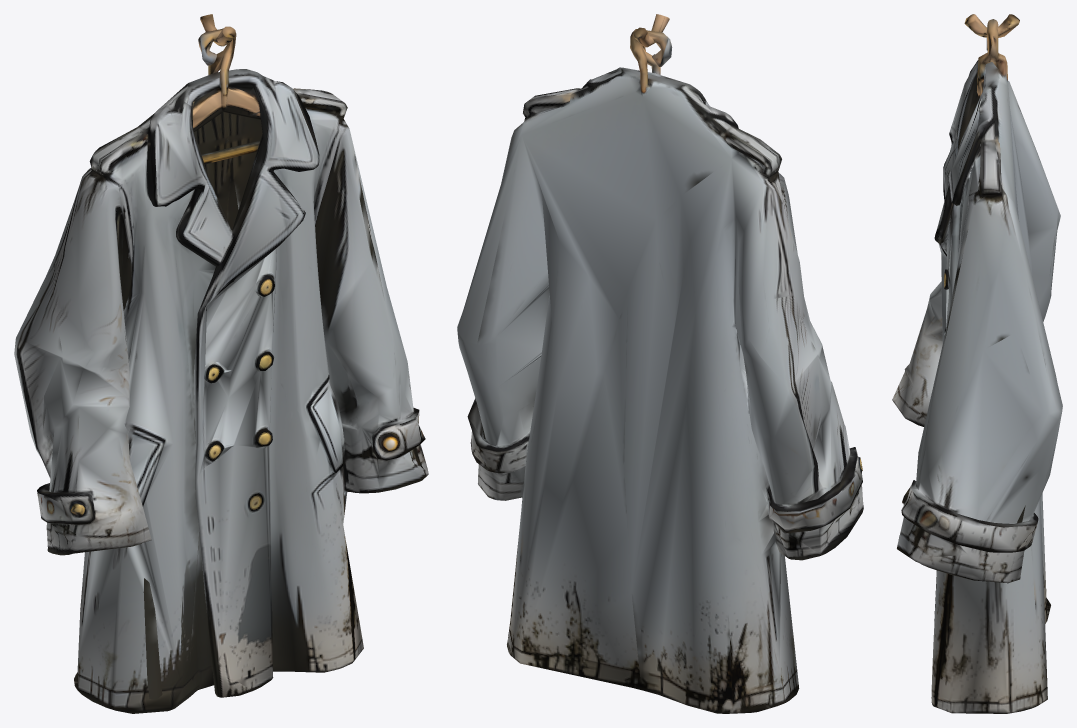
The model's file is lhi_oilskin_coat.glb.
3 views of the same model, side by side, from view 1: azimuth 30°, elevation 25°; view 2: azimuth 150°, elevation 25°; view 3: azimuth 270°, elevation 25° (orthographic).
Visible parts, largest first — view 1: material; view 2: material; view 3: material.
Part boxes in pixels (x1,y1,x2,y2): material: [14, 14, 428, 713]; material: [457, 14, 863, 713]; material: [892, 14, 1062, 713].
Size of the model in its own units: 0.6684 by 1.14 by 0.2721.
Materials: 1 (1 with a texture image).
